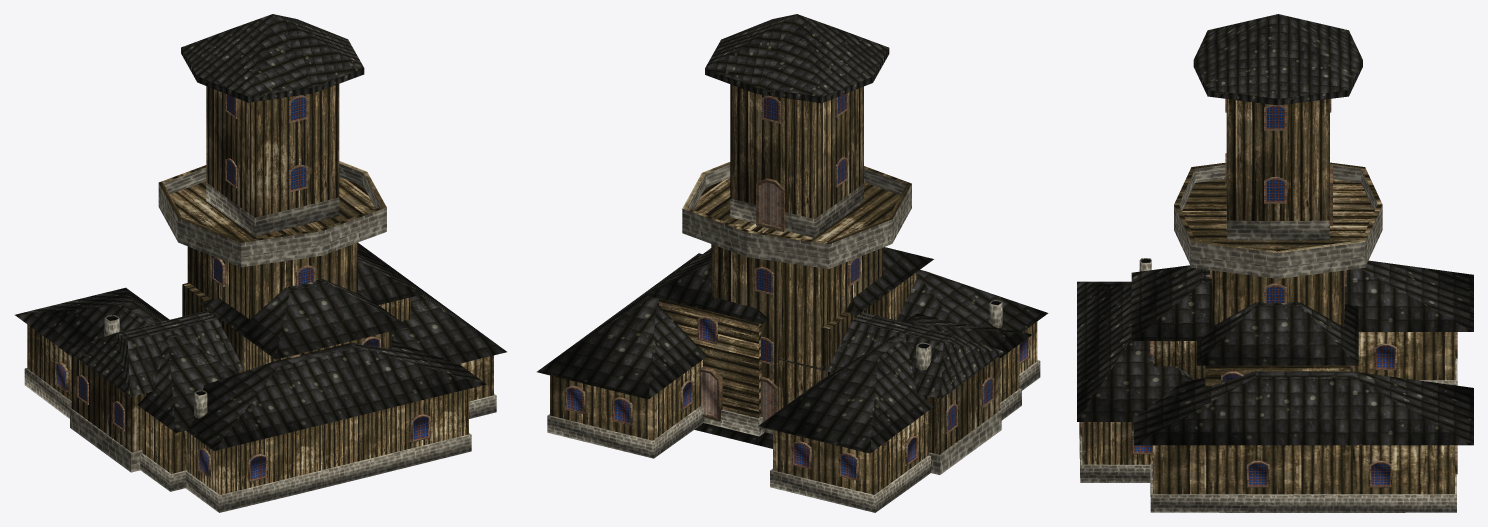
Rendered from Buildings.glb.
The picture shows the model from 3 angles, left to right: view 1: azimuth 30°, elevation 25°; view 2: azimuth 150°, elevation 25°; view 3: azimuth 270°, elevation 25°; orthographic projection. The views are drawn at different scales.
Visible parts, largest first — view 1: Tower, Building_4, Building_1, Building_3, Building_Shape_3_2_Story; view 2: Tower, Building_1, Building_4, Building_3, Building_Shape_3_2_Story, Roof_3; view 3: Building_1, Tower, Building_4.
Boxes of the visible parts, bbox=[...] form: Tower: bbox=[158, 14, 386, 319]; Building_4: bbox=[186, 246, 486, 512]; Building_1: bbox=[15, 243, 506, 491]; Building_3: bbox=[66, 311, 244, 472]; Building_Shape_3_2_Story: bbox=[182, 282, 242, 371]; Tower: bbox=[682, 14, 911, 433]; Building_1: bbox=[537, 247, 1031, 512]; Building_4: bbox=[646, 248, 1048, 436]; Building_3: bbox=[820, 312, 1004, 474]; Building_Shape_3_2_Story: bbox=[821, 293, 888, 366]; Roof_3: bbox=[694, 423, 772, 448]; Building_1: bbox=[1131, 260, 1473, 512]; Tower: bbox=[1174, 14, 1382, 326]; Building_4: bbox=[1077, 258, 1358, 482].
Bounding box in the file's own units: 13.71 × 15.99 × 13.12.
4 materials, 4 textured.
